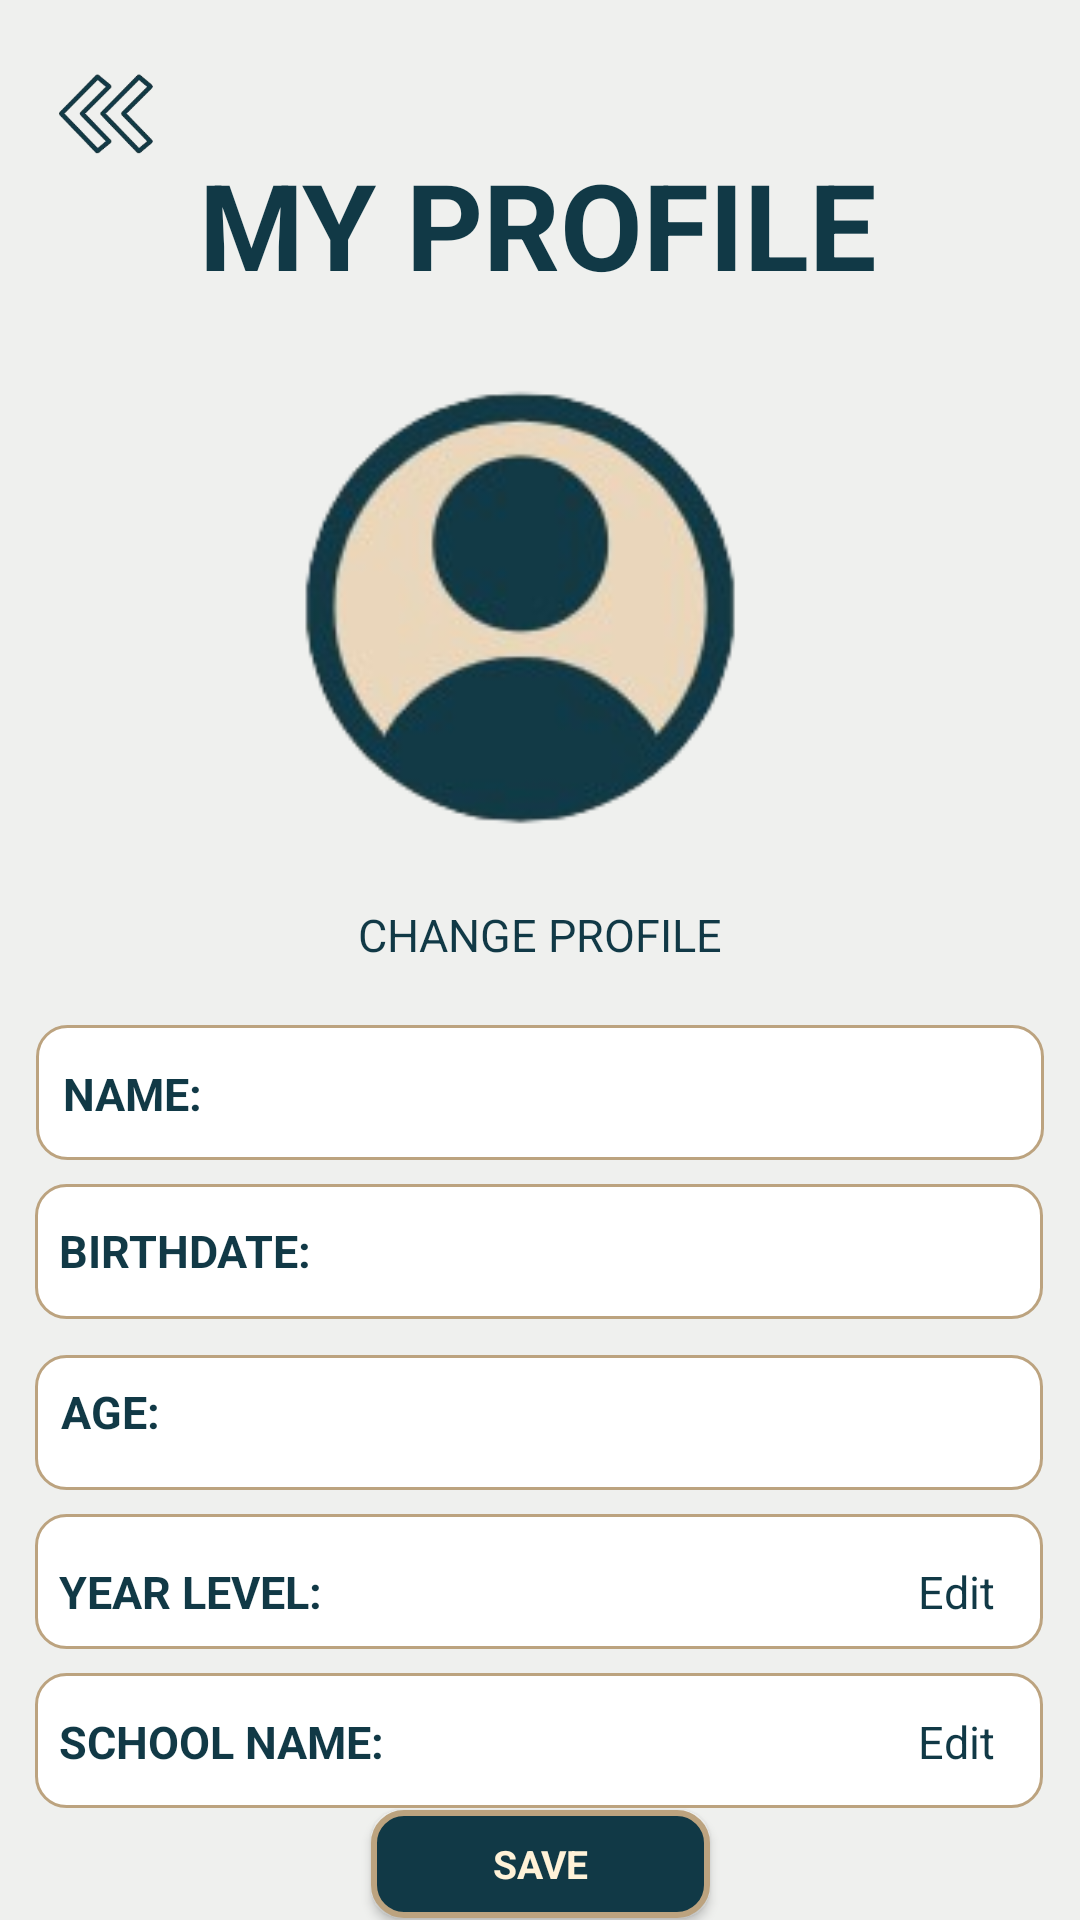

Icon bounding boxes for this 1080x1920 phone screenshot, format BBox(x1, y1, x2, y2):
backbutton: BBox(59, 74, 153, 154)
